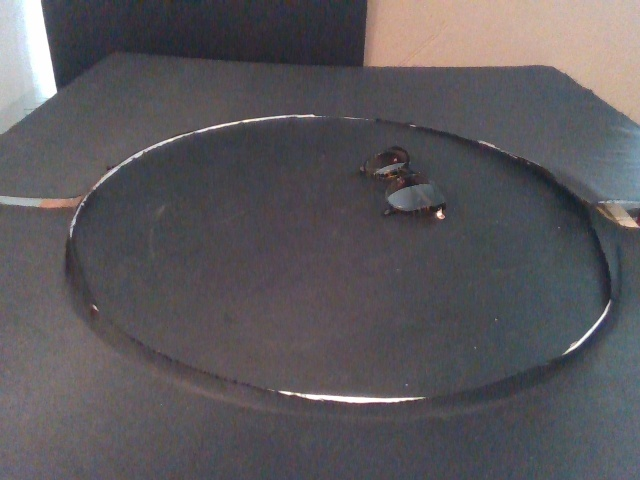glasses: (359, 145, 448, 221)
